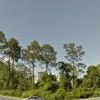Tree: (25, 33, 85, 92)
